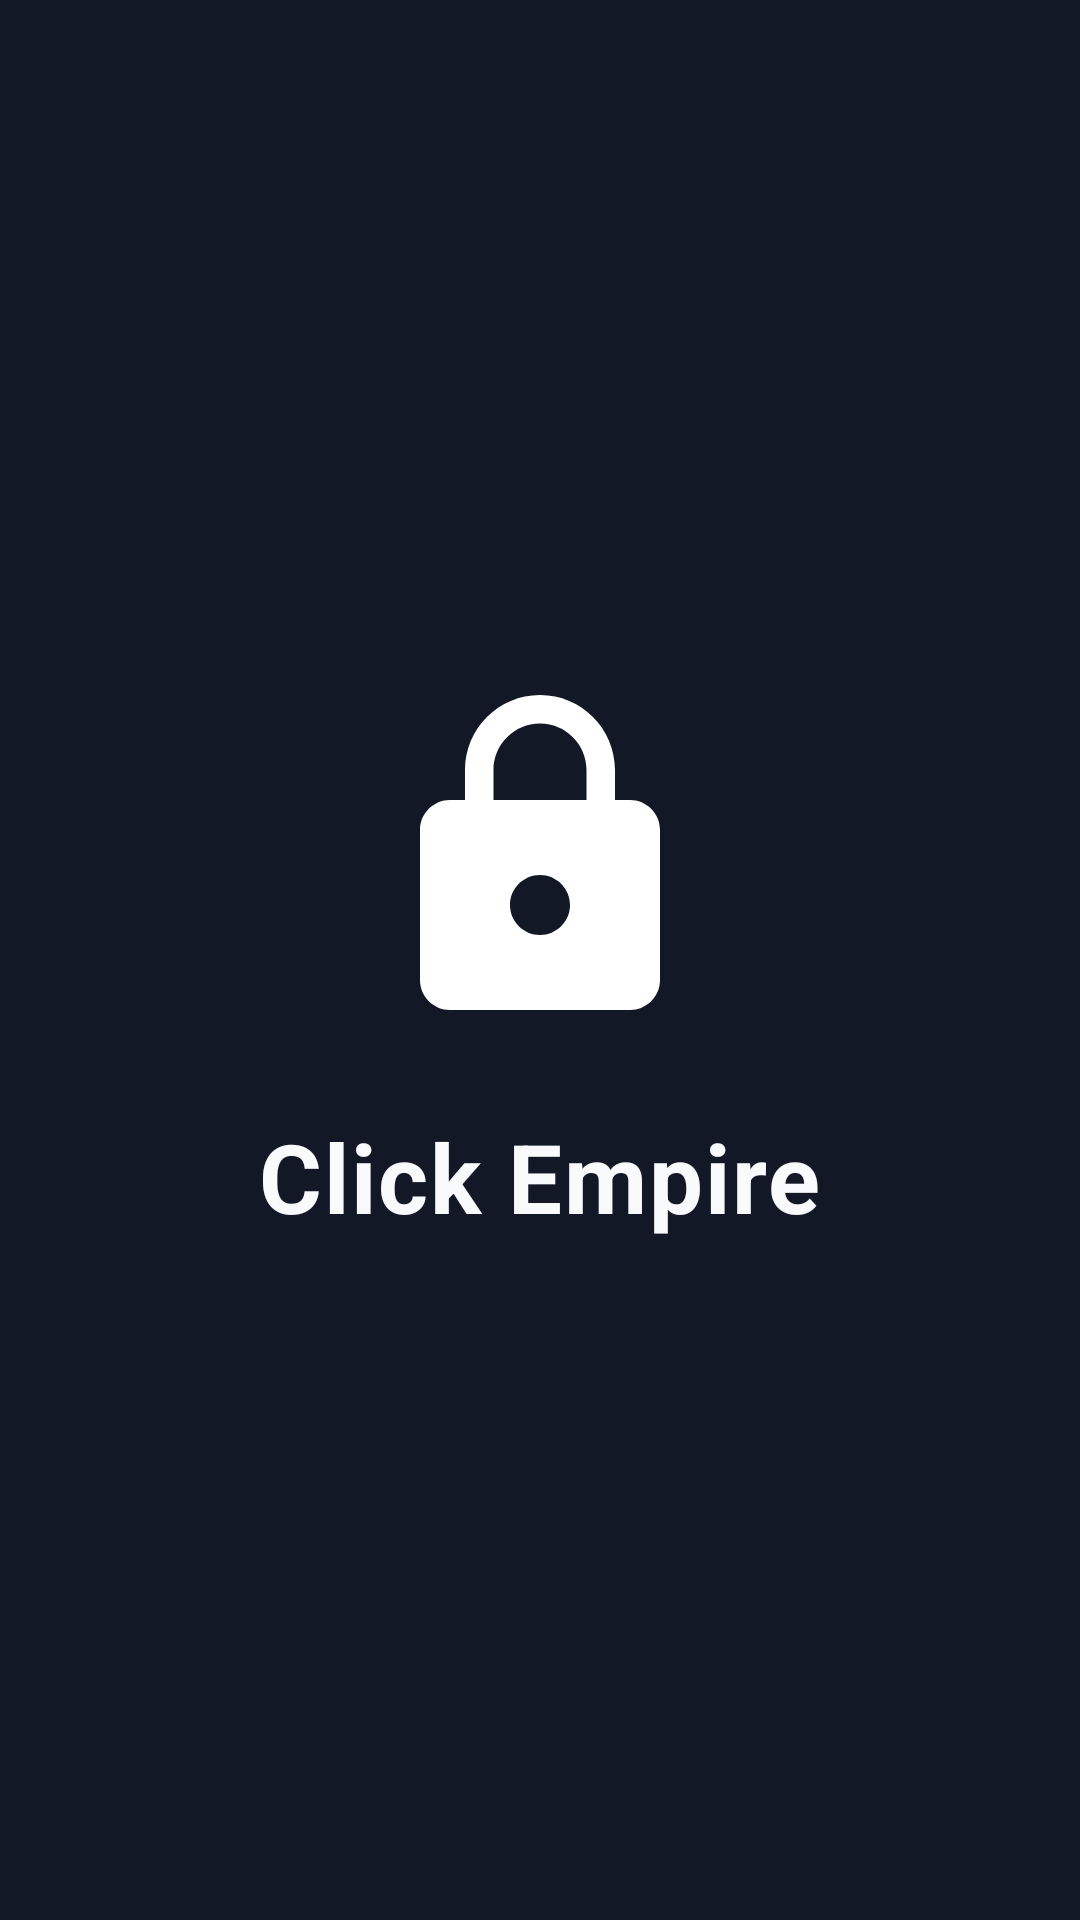

Where icons sit on this 1080 x 1920 app screen, as detection(x1, y1, x2, y2):
lock: detection(420, 695, 660, 1010)
